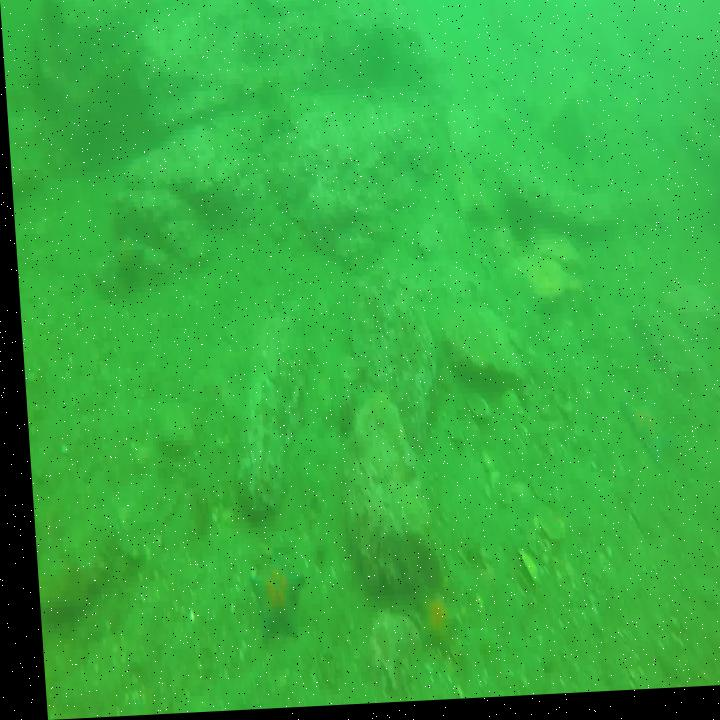starfish: (242, 548, 298, 642), (612, 397, 670, 474), (404, 582, 451, 662)
